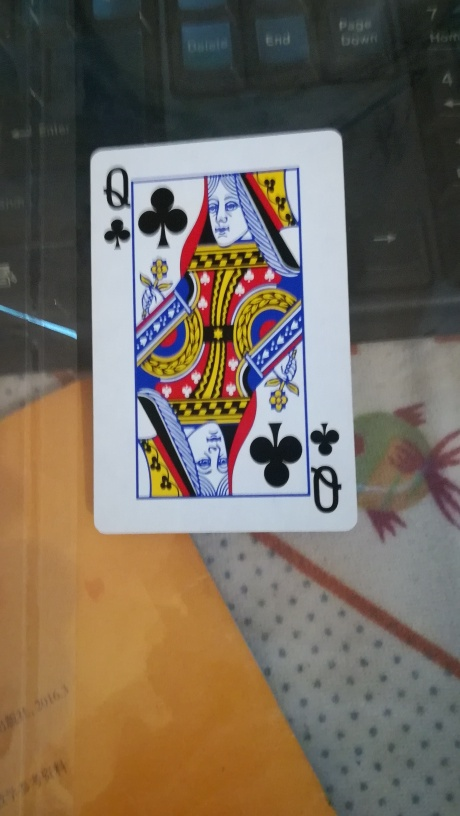mh q: (83, 127, 363, 535)
